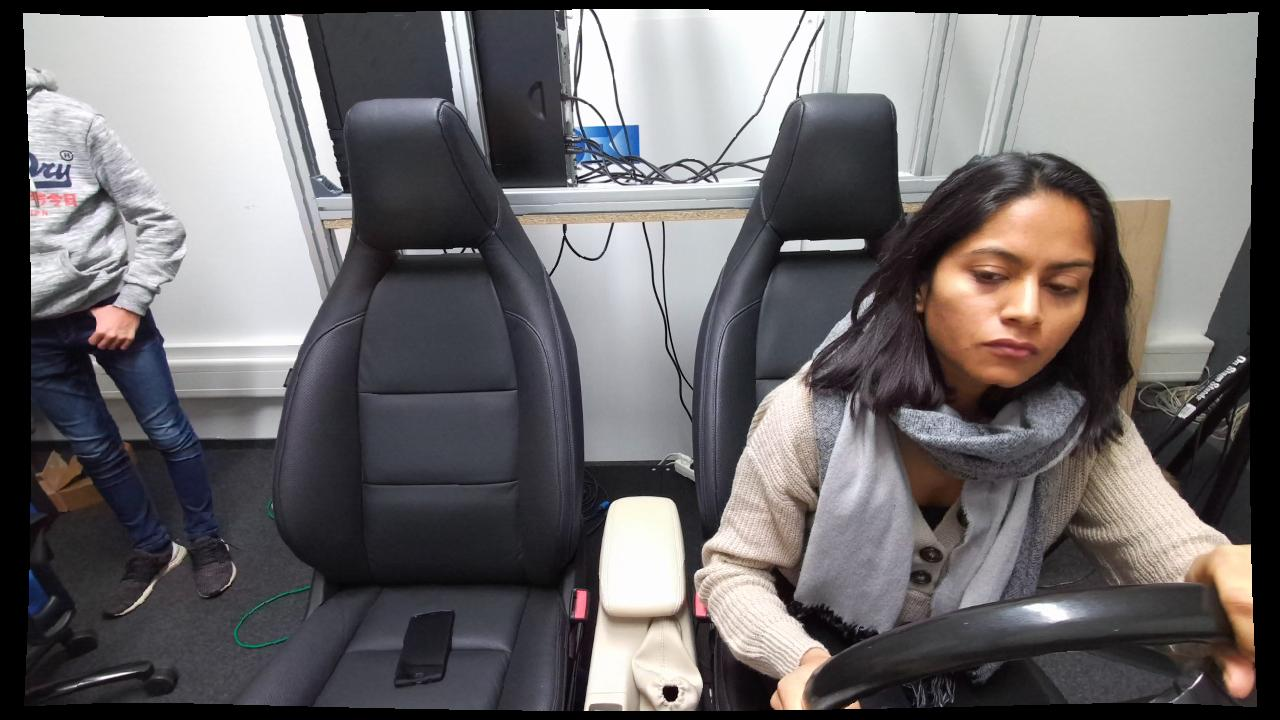Distracted: (700, 135, 1141, 713)
